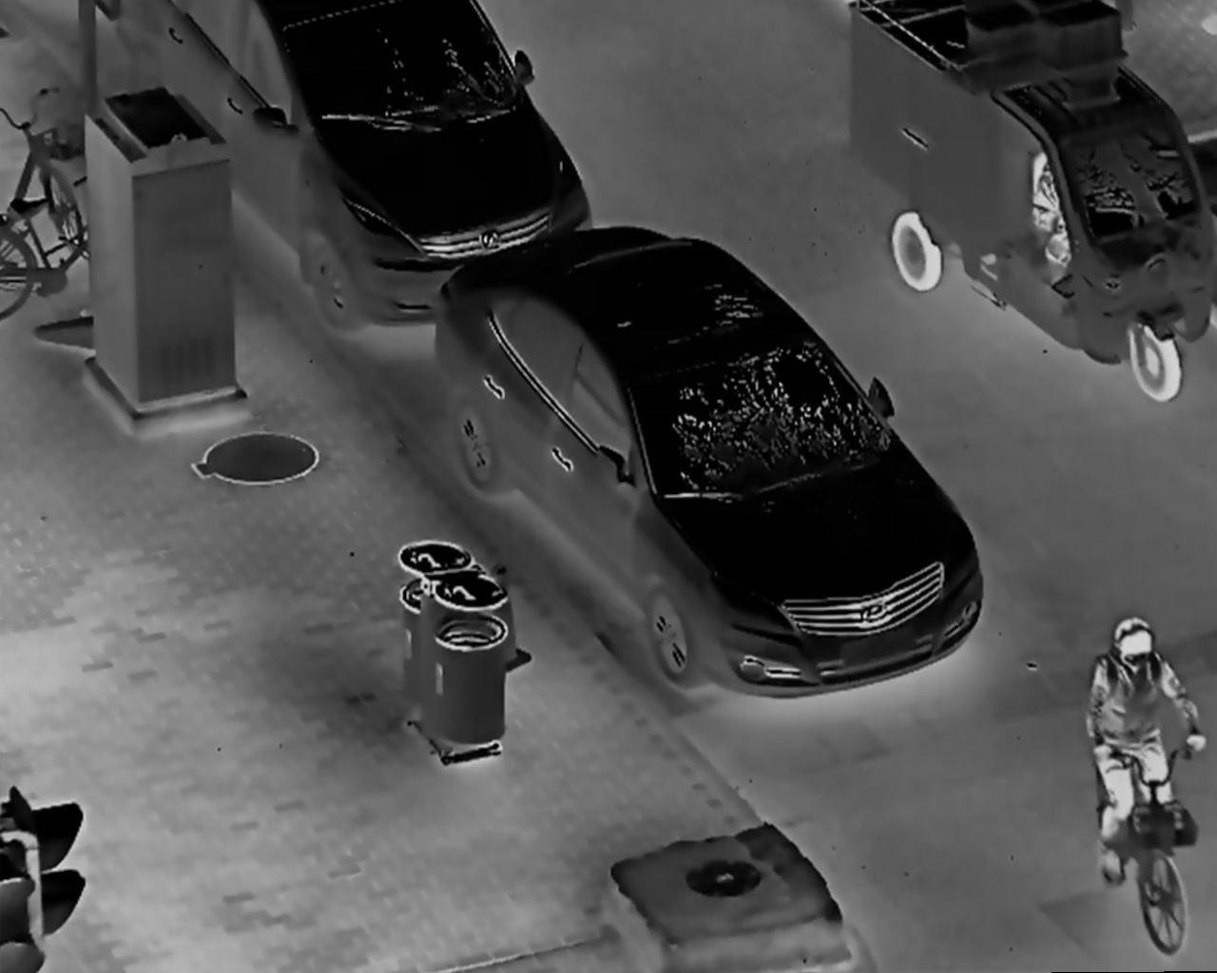person: (1080, 612, 1210, 886)
